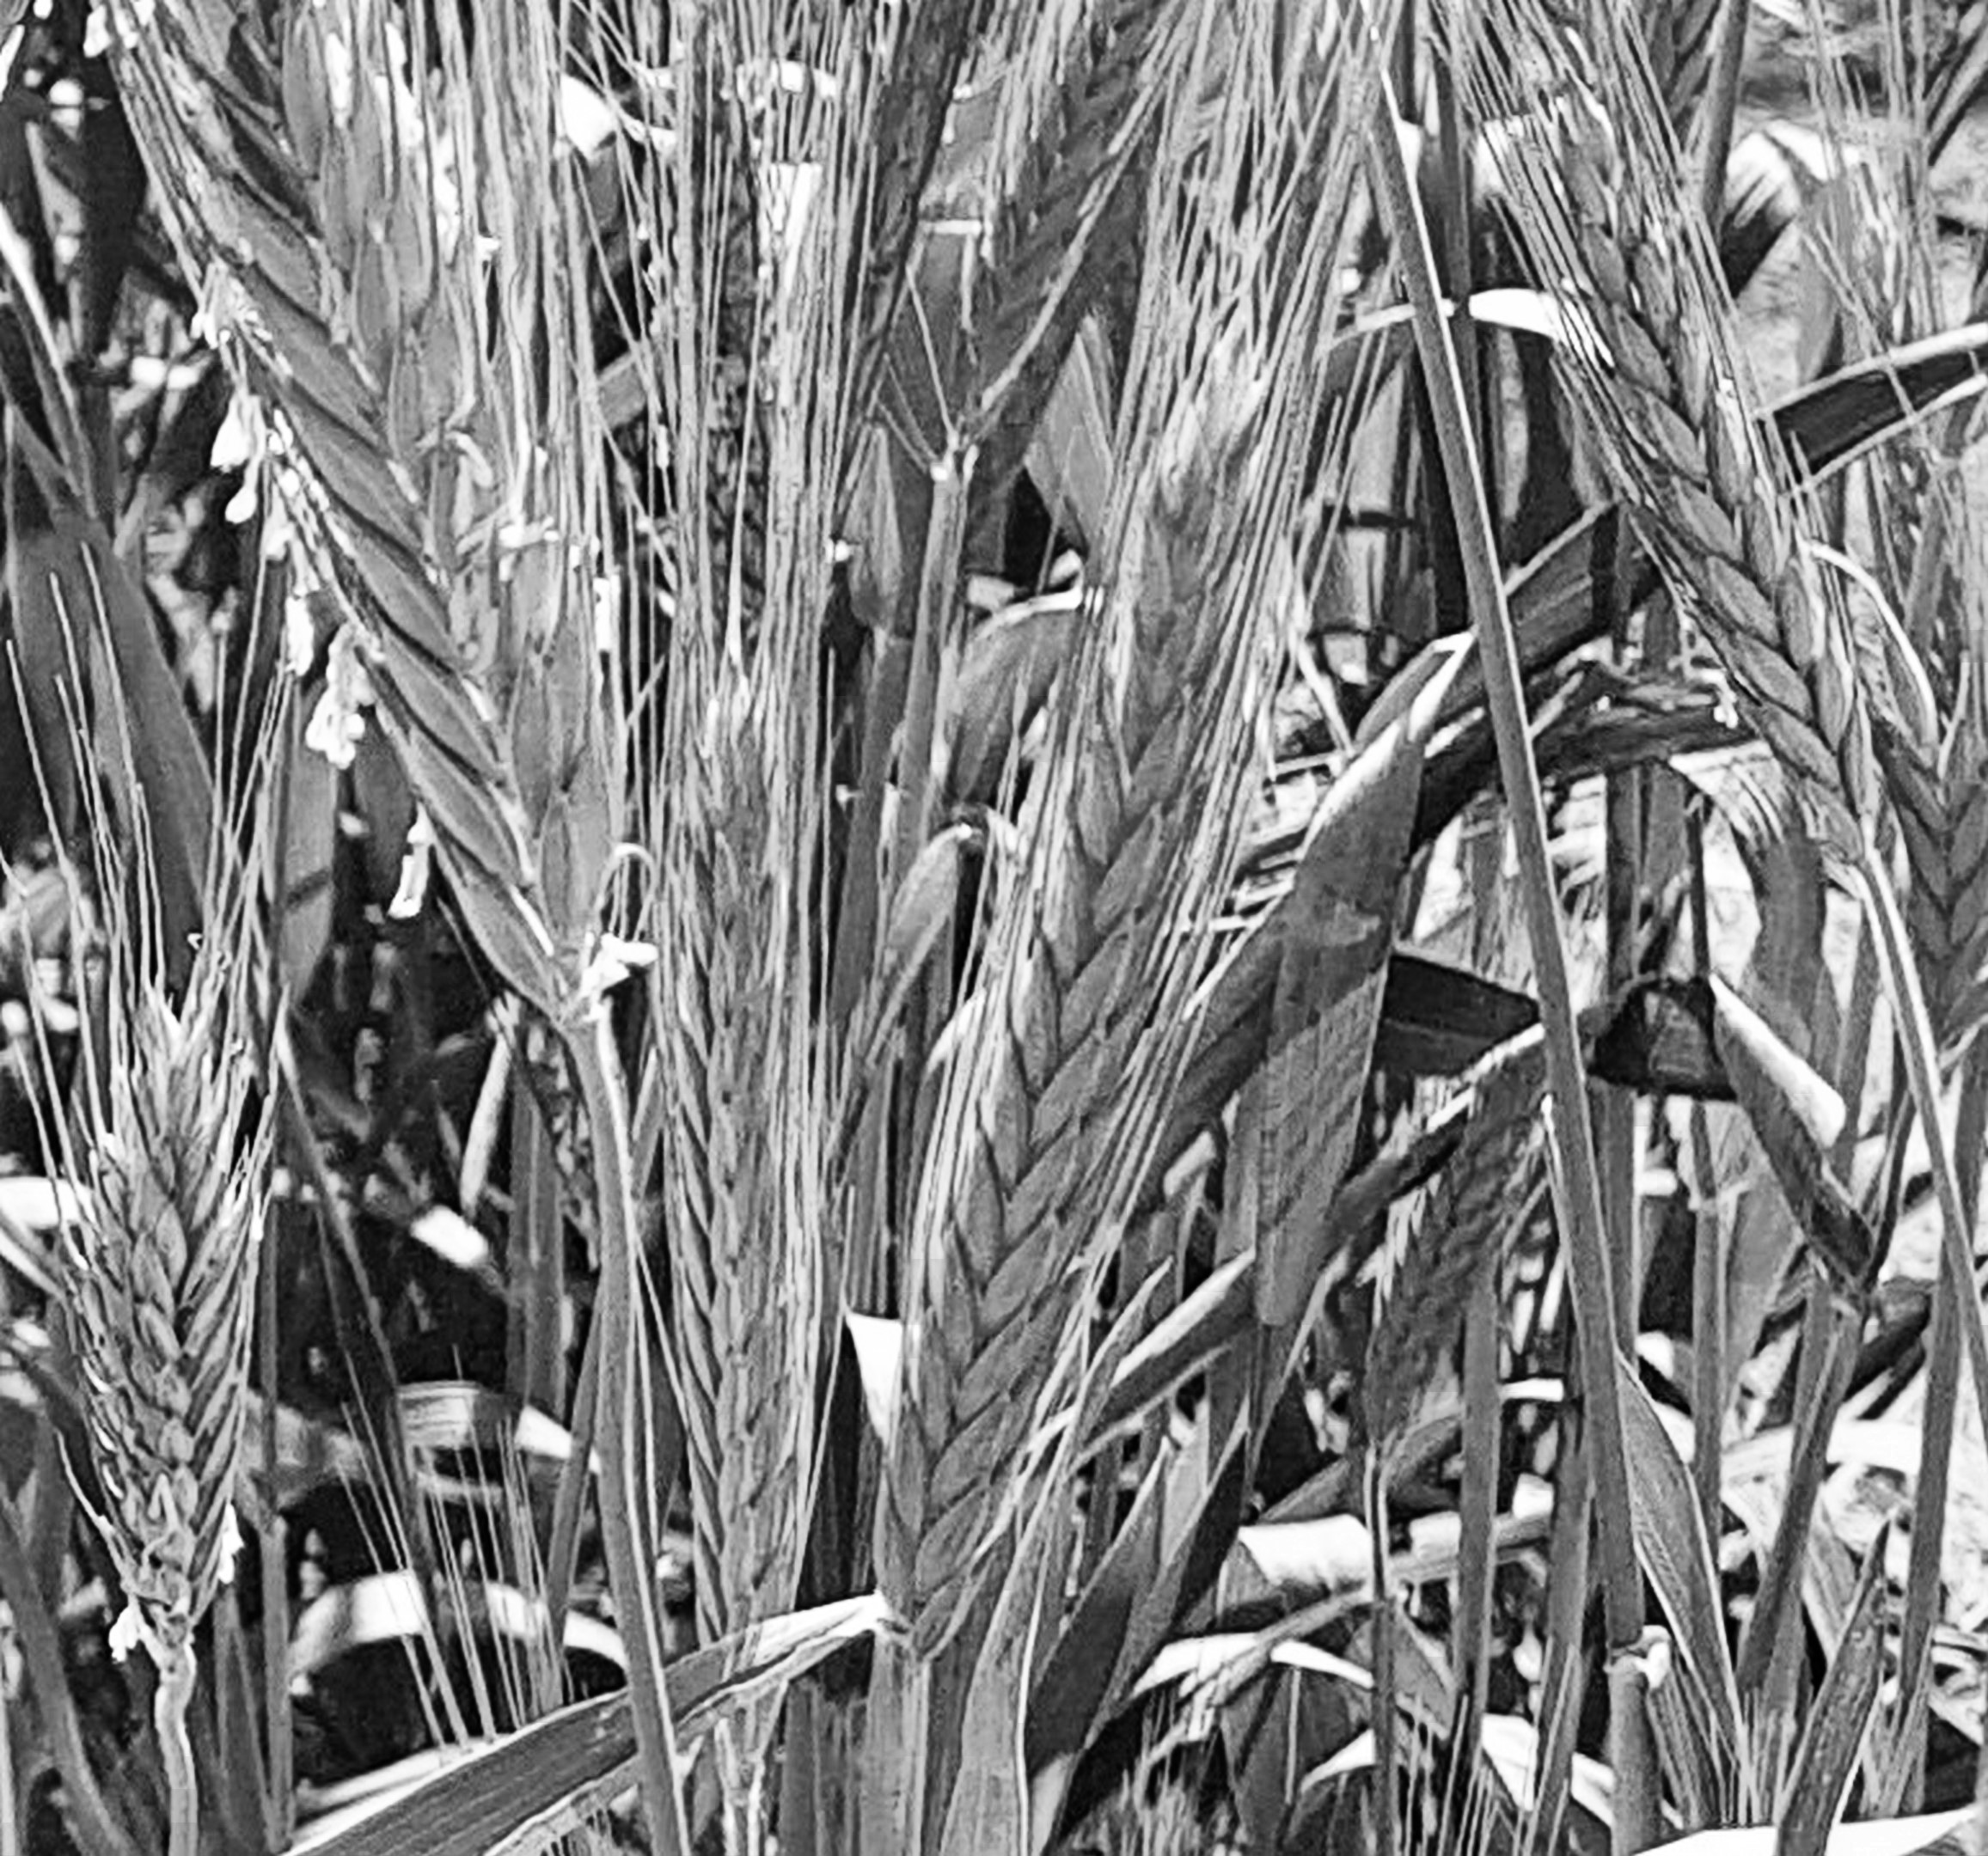Healthy Wheat: (866, 379, 1356, 1624), (1494, 105, 1908, 848), (42, 1001, 298, 1600)
